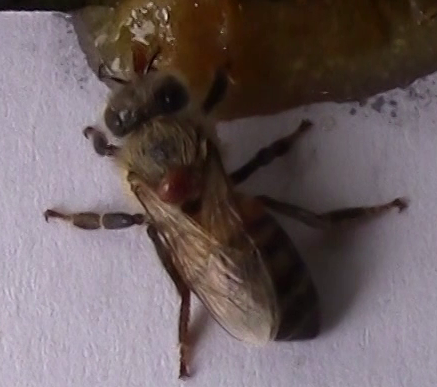Varroa destructor: (153, 163, 199, 206)
